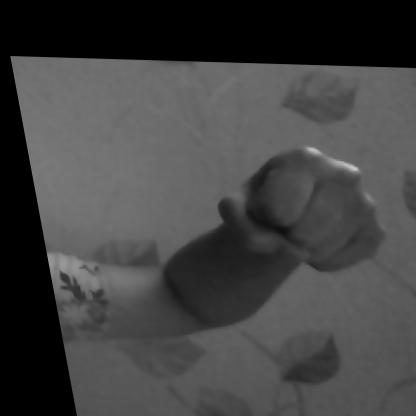fist: (71, 111, 408, 350)
